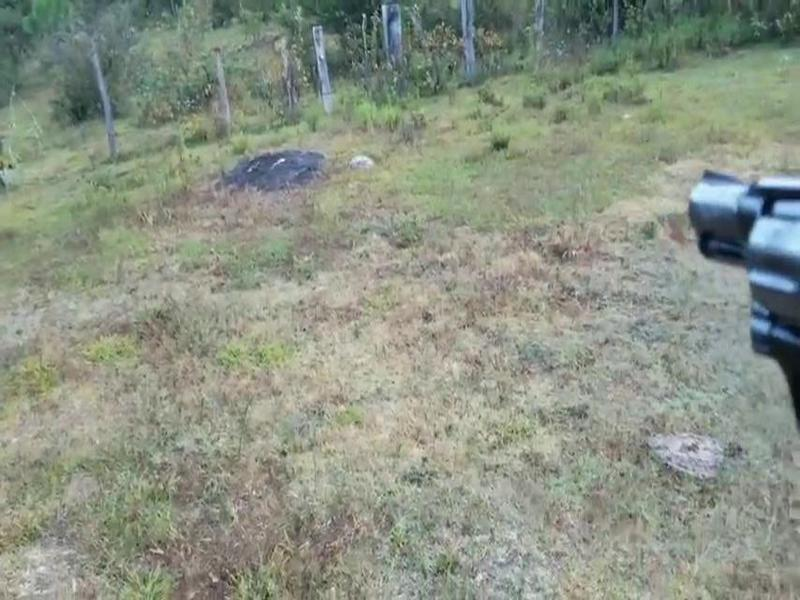Revolver: (659, 123, 800, 425)
